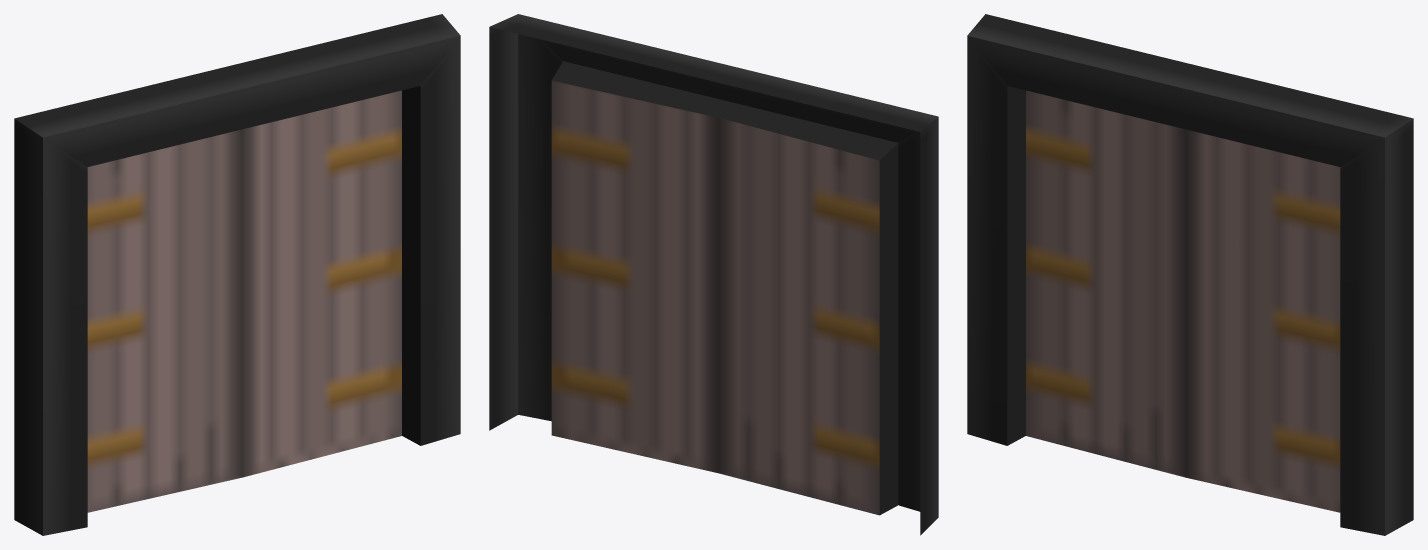
File: door_double_v2b_001.fbx
3 views of the same model, side by side, from view 1: azimuth 30°, elevation 25°; view 2: azimuth 150°, elevation 25°; view 3: azimuth 330°, elevation 25° (orthographic).
Parts seen in each view (by area): view 1: door_double_v2b_001; view 2: door_double_v2b_001; view 3: door_double_v2b_001.
Part boxes in pixels (<box>): door_double_v2b_001: <box>14,14,460,535</box>; door_double_v2b_001: <box>489,14,938,535</box>; door_double_v2b_001: <box>967,14,1413,535</box>.
Bounding box in the file's own units: 200 × 179 × 20.9.
